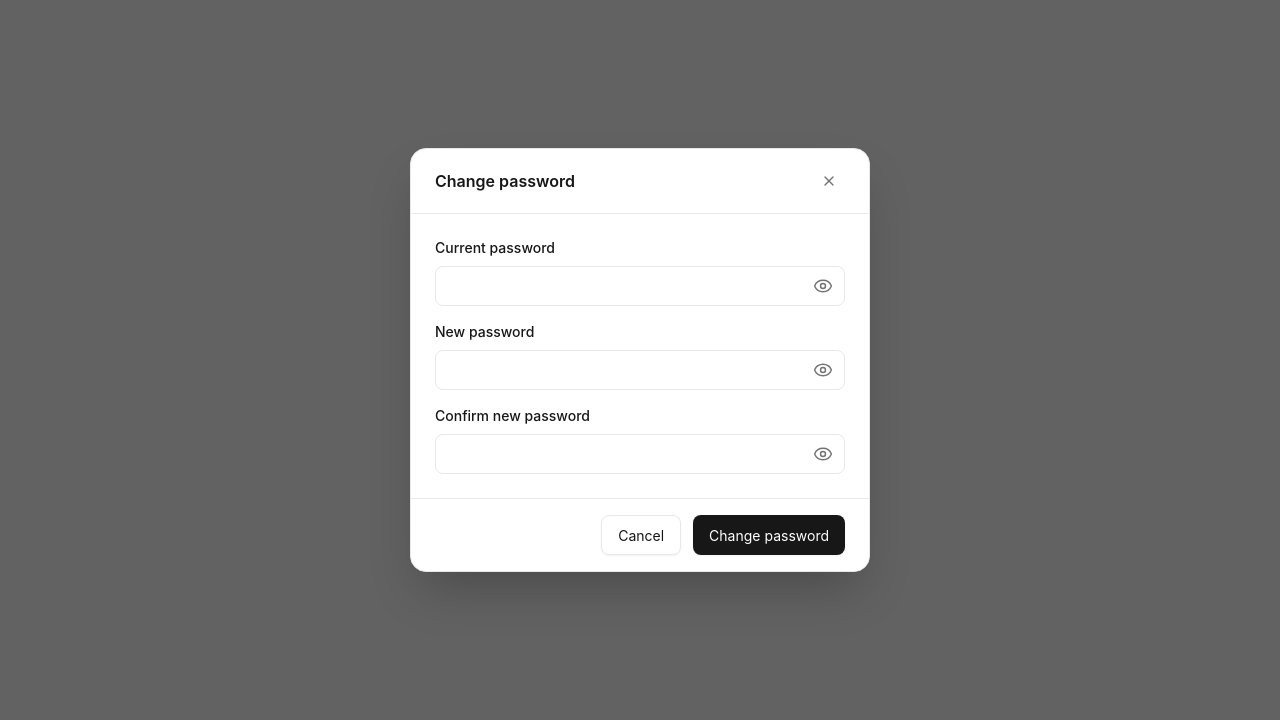
Test case: ChangePasswordDialog › surfaces an incorrect current password on the field
The width and height of the screenshot is (1280, 720).
In the password field labelled "Current password": (640, 286) [435,266,845,306], type "wrongpass1"
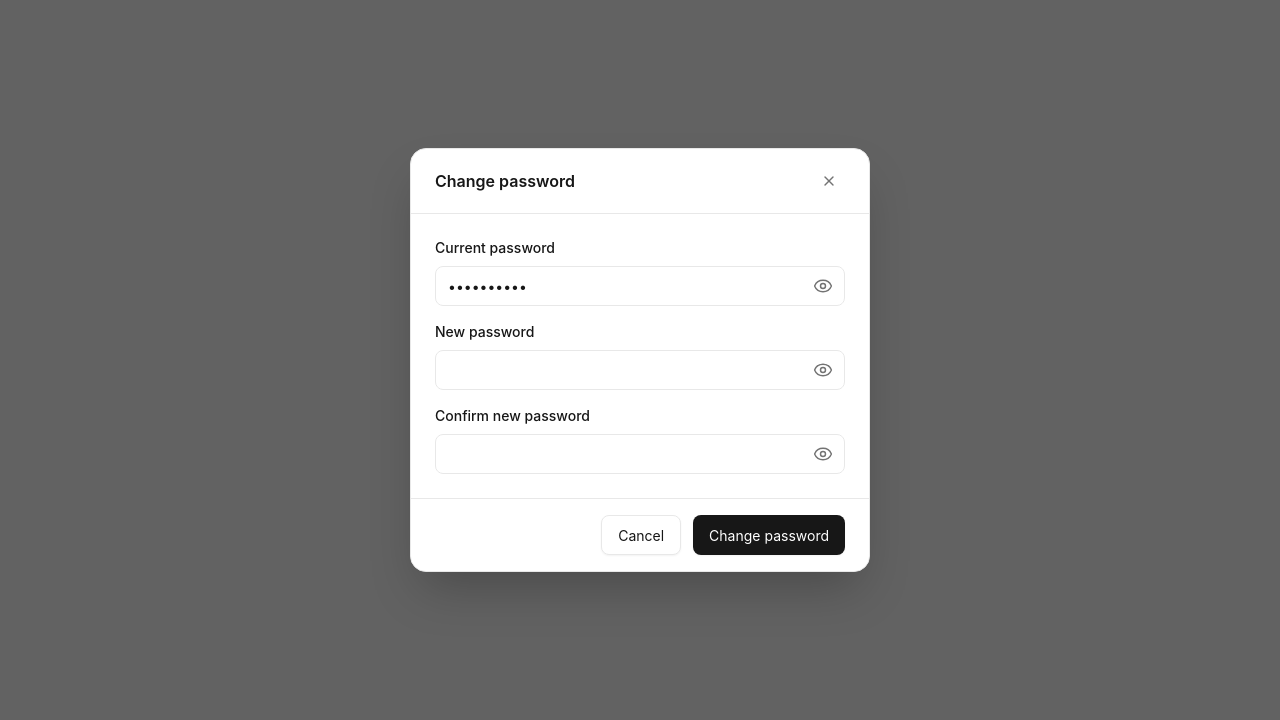
In the password field labelled "New password": (640, 370) [435,350,845,390], type "brandnewpass1"
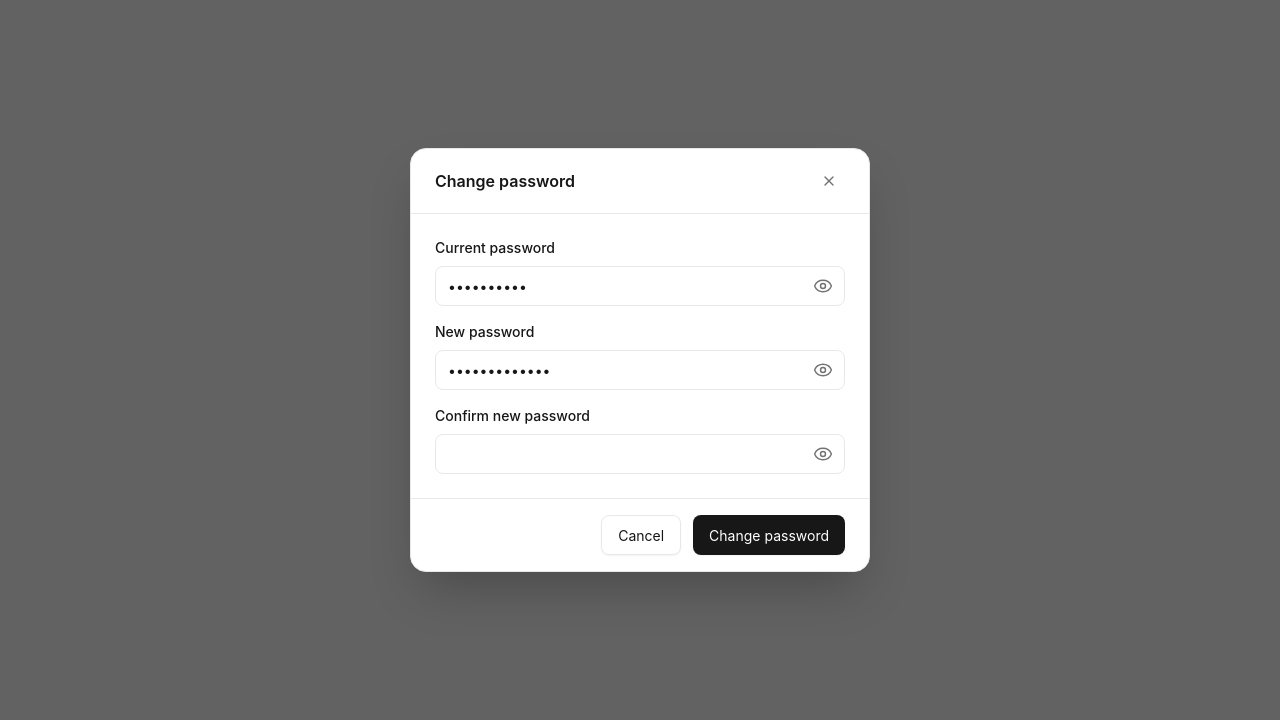
In the password field labelled "Confirm new password": (640, 454) [435,434,845,474], type "brandnewpass1"
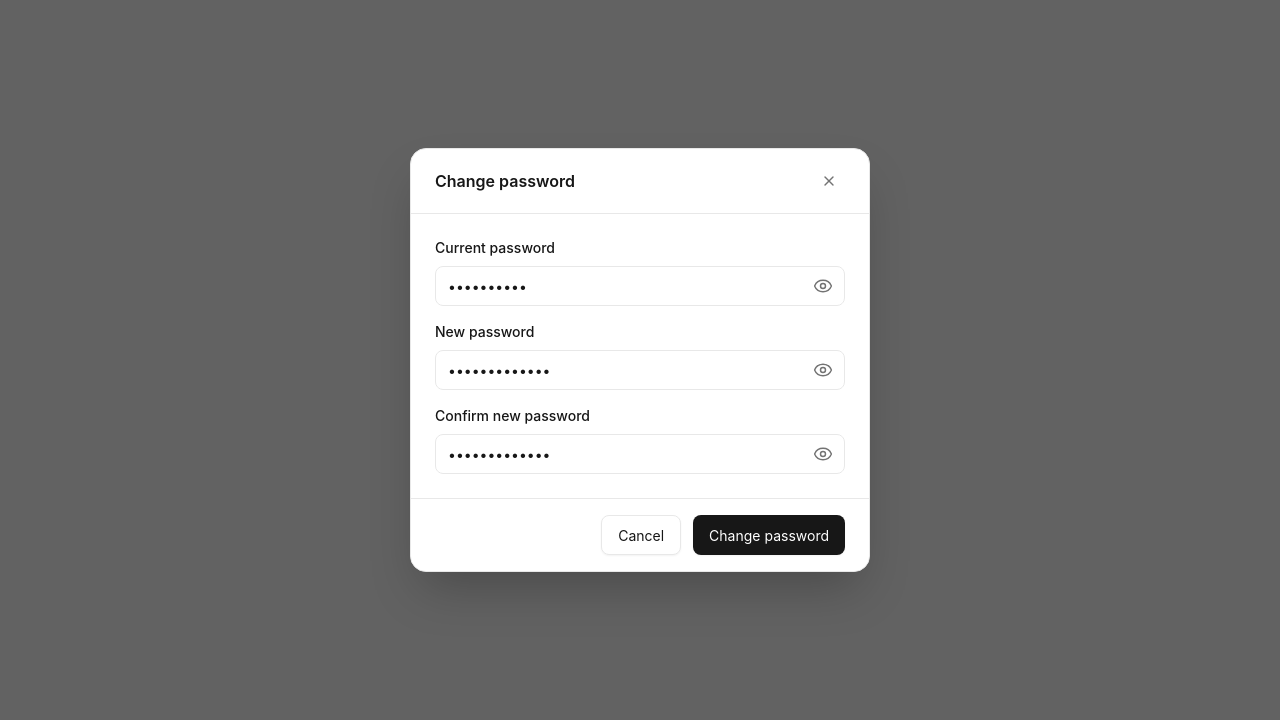
Click the button "Change password": click(769, 535) [693,515,845,555]
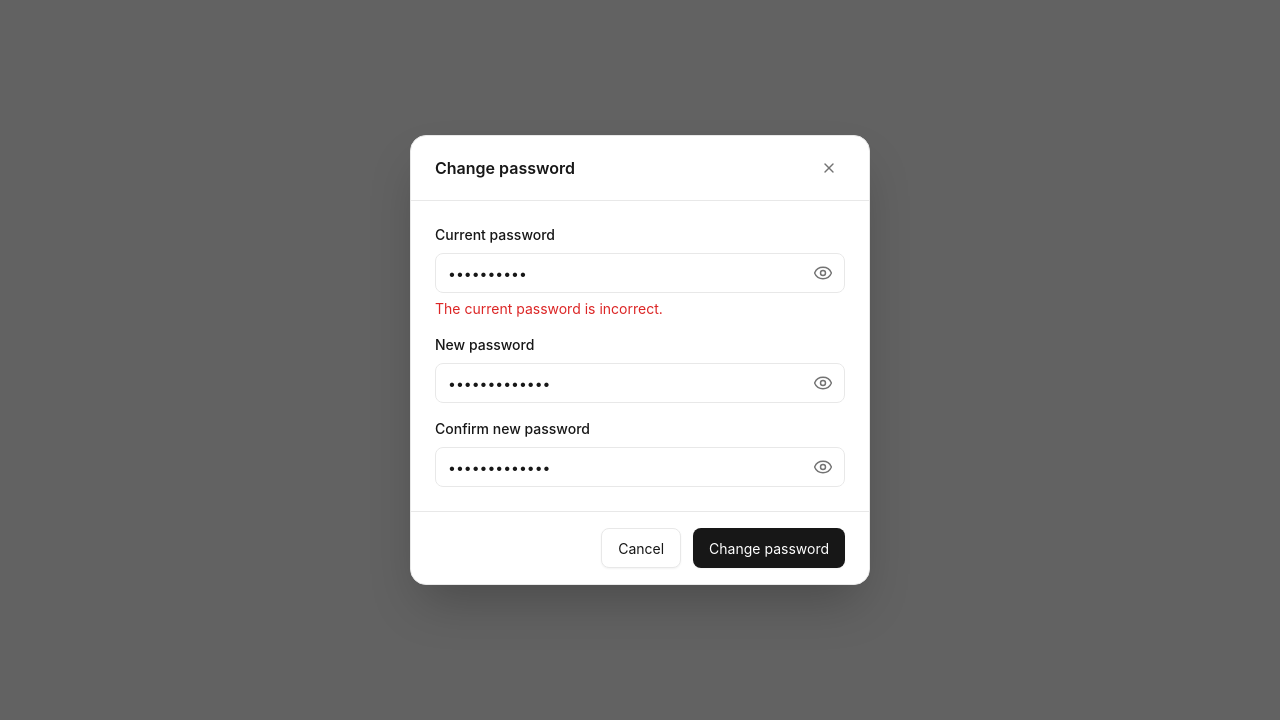
Check: the text "The current password is incorrect." is shown, box [435,300,663,317]
